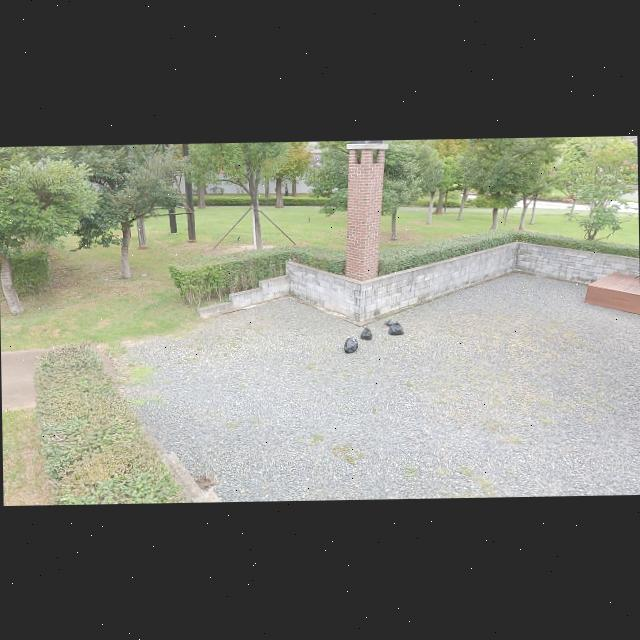trash: (342, 334, 359, 353), (358, 324, 374, 342), (387, 320, 403, 336), (385, 316, 395, 326)
